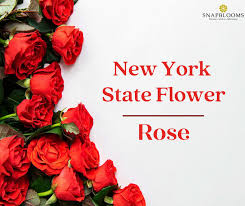lale: (1, 28, 54, 84), (27, 136, 72, 178), (45, 22, 85, 69), (24, 64, 69, 105), (58, 104, 101, 143), (45, 170, 90, 206), (62, 136, 102, 176), (0, 132, 31, 181), (81, 160, 123, 195), (12, 99, 56, 131), (0, 172, 35, 206), (40, 0, 88, 23), (110, 183, 150, 206)
